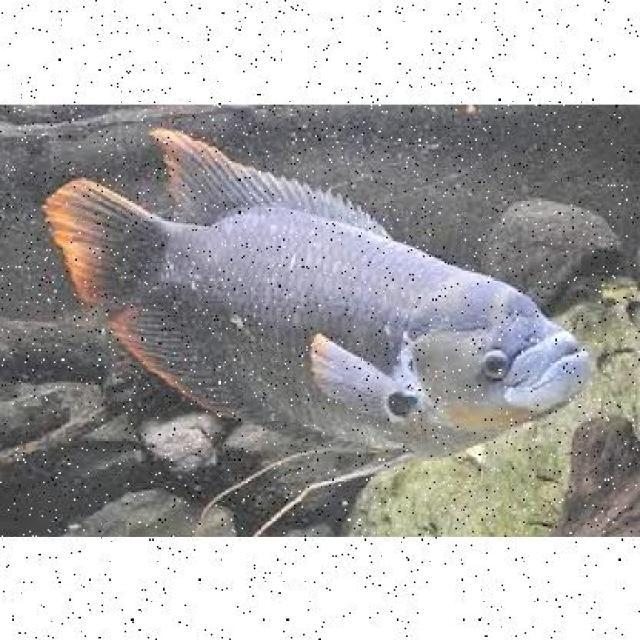gurame: (54, 138, 592, 511)
